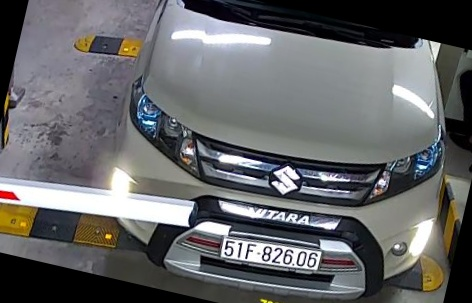plate: (218, 231, 328, 278)
